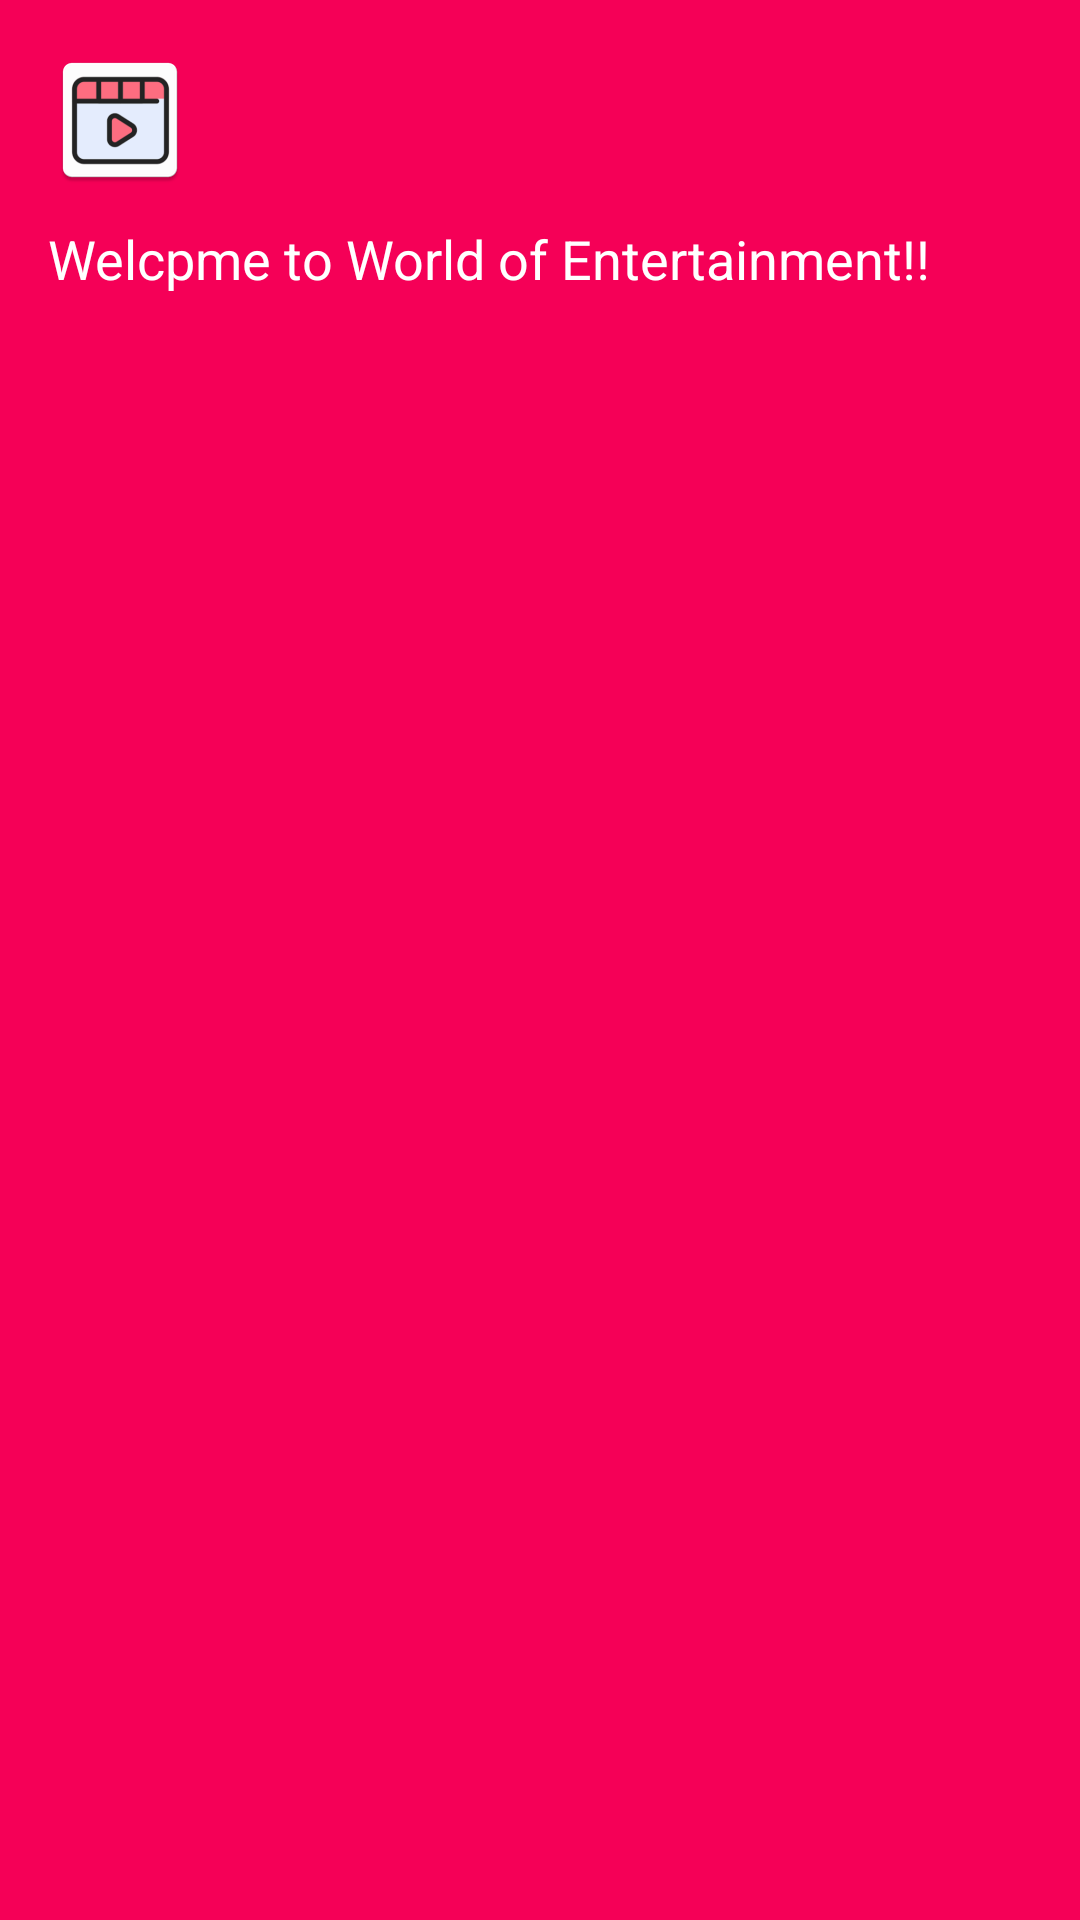

Icons on this 1080 × 1920 Android screen, each with its box as (x1, y1, x2, y2):
video player: (62, 62, 178, 181)
